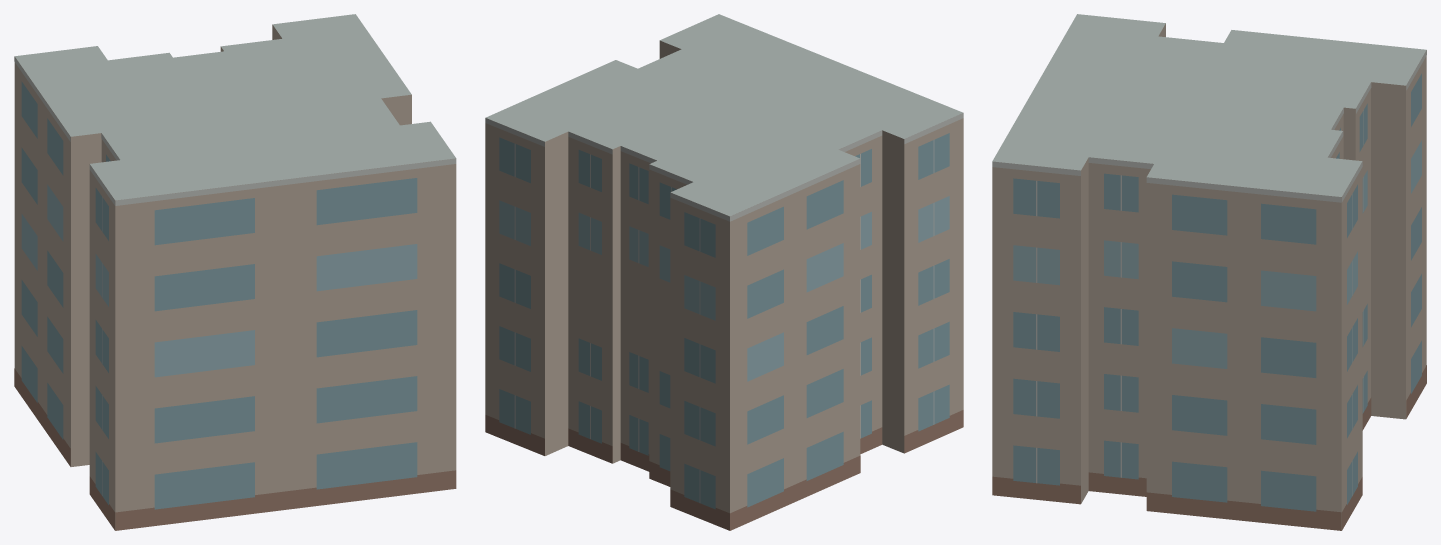
Rendered from survey-upis-32545943.glb.
3 renders of one model, left to right at view 1: azimuth 30°, elevation 25°; view 2: azimuth 150°, elevation 25°; view 3: azimuth 270°, elevation 25°, orthographic. The views are drawn at different scales.
Visible parts, largest first — view 1: survey-upis-32545943.tmp; view 2: survey-upis-32545943.tmp; view 3: survey-upis-32545943.tmp.
Boxes of the visible parts, x1,y1,x2,y2 form: survey-upis-32545943.tmp: [14, 14, 456, 530]; survey-upis-32545943.tmp: [485, 14, 963, 530]; survey-upis-32545943.tmp: [992, 14, 1426, 530].
Size of the model in its own units: 17.13 by 14.55 by 17.18.
